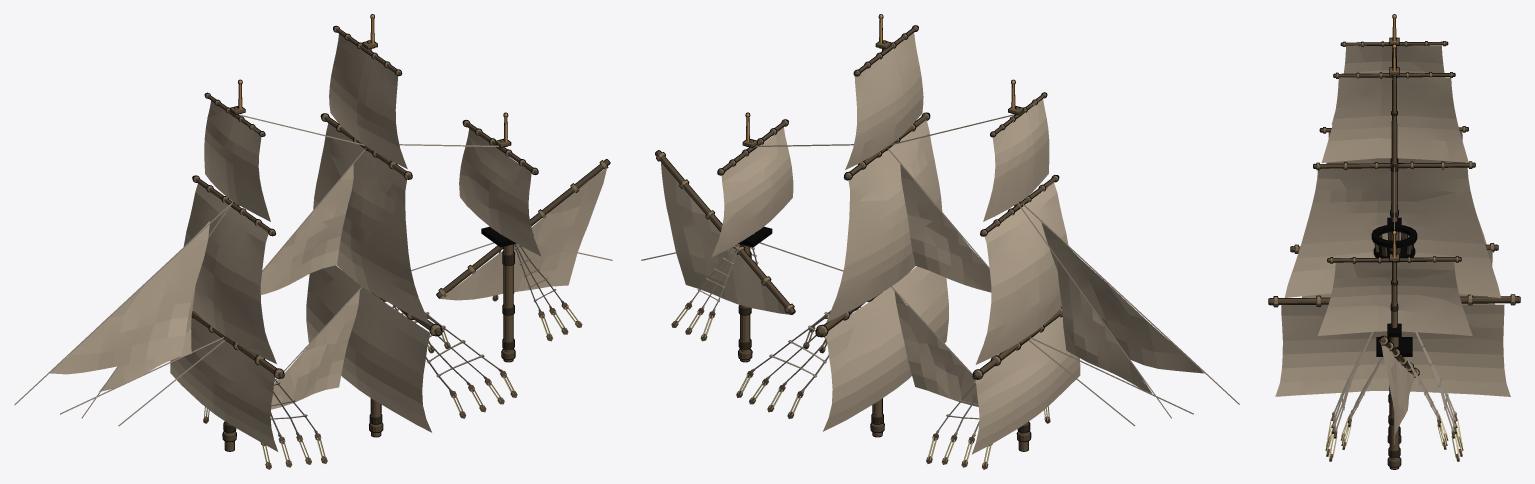
The picture shows the model from 3 angles, left to right: view 1: azimuth 30°, elevation 25°; view 2: azimuth 150°, elevation 25°; view 3: azimuth 270°, elevation 25°; orthographic projection. The views are drawn at different scales.
Parts seen in each view (by area): view 1: SAILS, MASTS, RIGGING; view 2: SAILS, MASTS, RIGGING; view 3: SAILS, MASTS, RIGGING.
Part boxes in pixels (x1,y1,x2,y2): SAILS: [50, 34, 606, 451]; MASTS: [191, 14, 610, 451]; RIGGING: [14, 114, 612, 469]; SAILS: [661, 32, 1204, 454]; MASTS: [655, 14, 1062, 451]; RIGGING: [641, 114, 1239, 469]; SAILS: [1275, 45, 1510, 437]; MASTS: [1268, 14, 1520, 469]; RIGGING: [1325, 167, 1463, 461].
Bounding box in the file's own units: 1.52 × 1.02 × 0.5834.
2 materials, 1 textured.
